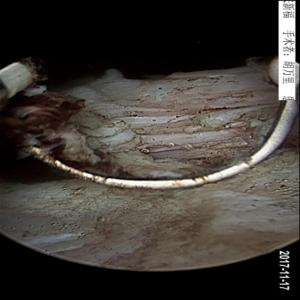film: (72, 69, 283, 167)
